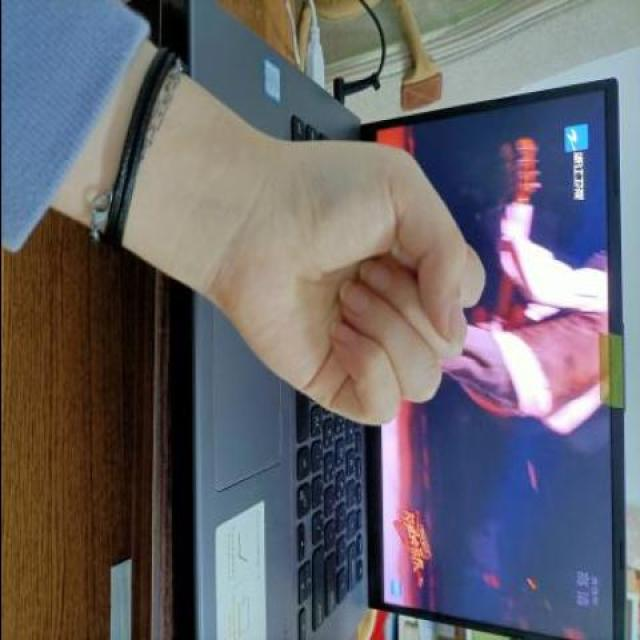Closed Hand: (204, 116, 503, 428)
